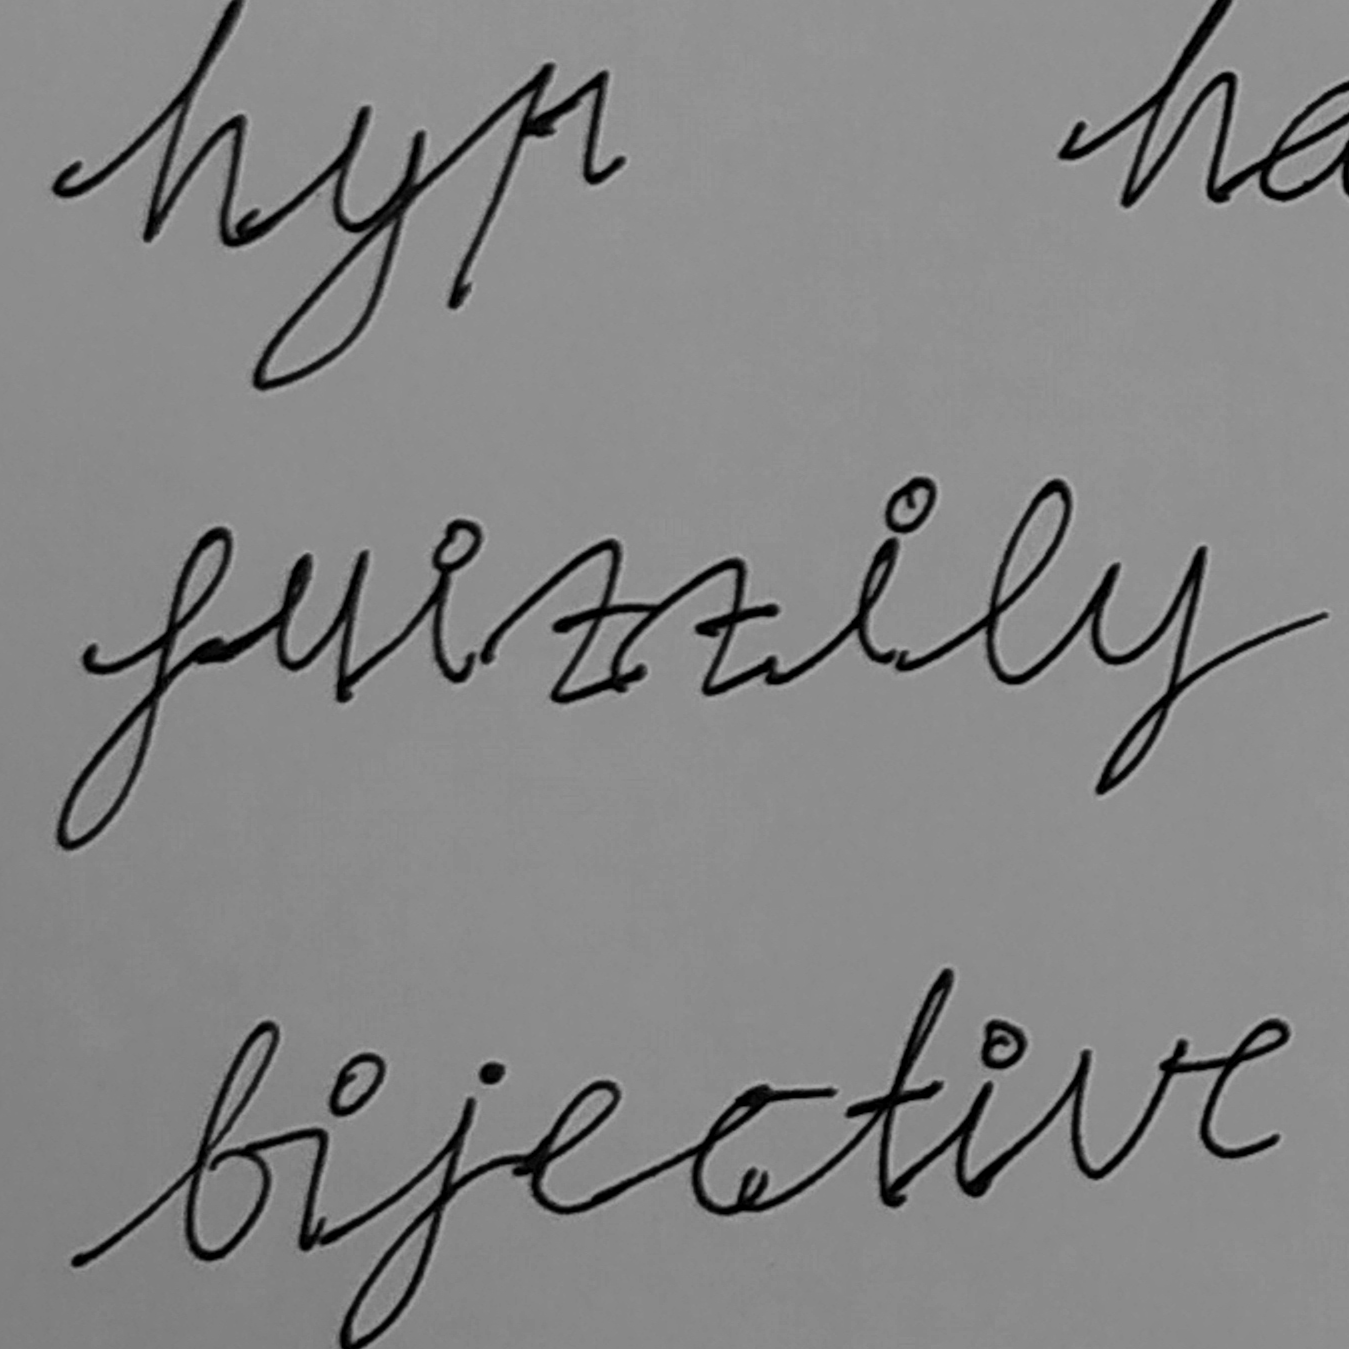f: (51, 520, 233, 856)
i: (851, 472, 941, 679), (419, 514, 485, 691)
l: (978, 473, 1074, 692)
r: (267, 544, 373, 712)
y: (1080, 541, 1213, 799)
z: (536, 532, 663, 708), (684, 552, 793, 702)
